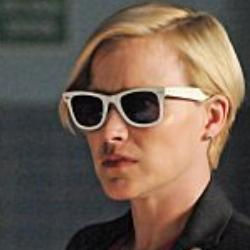face: (58, 3, 249, 205)
